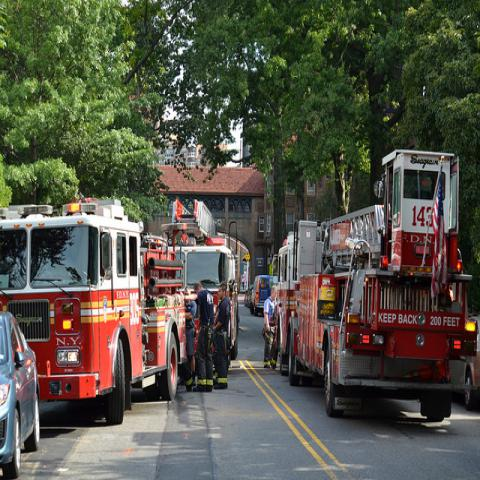car: (0, 309, 41, 474), (453, 316, 479, 412), (250, 275, 274, 316), (242, 285, 254, 308)
truck: (272, 152, 478, 425), (0, 198, 188, 424), (164, 192, 246, 372)
